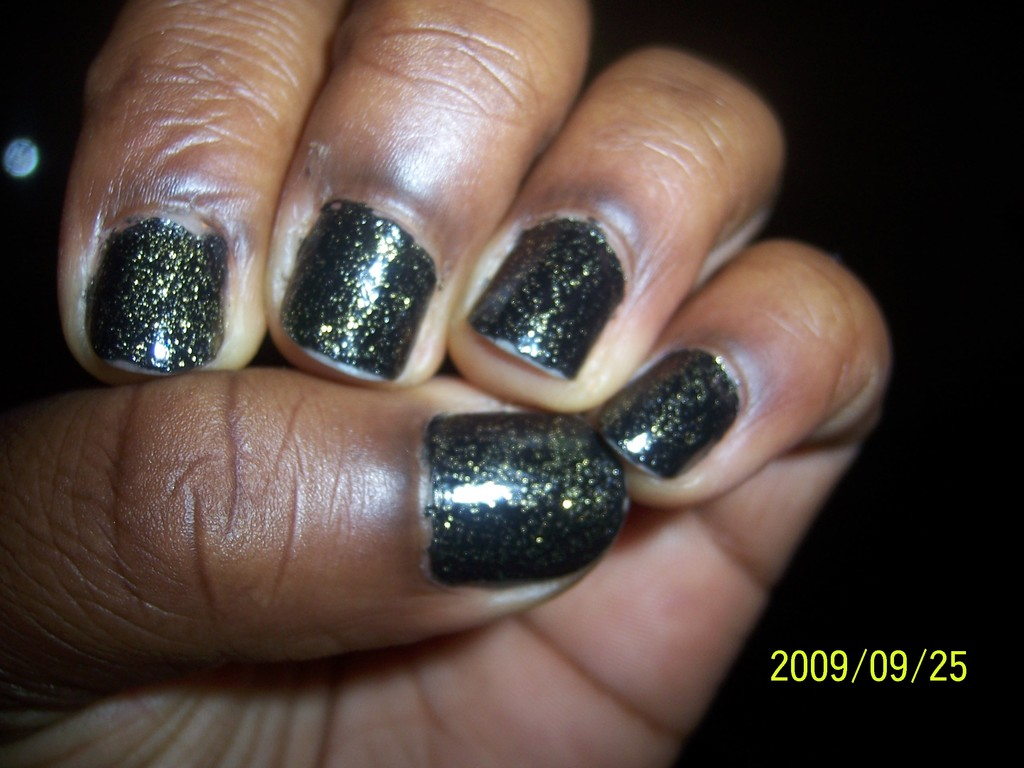Human_hand: (0, 0, 889, 768)
